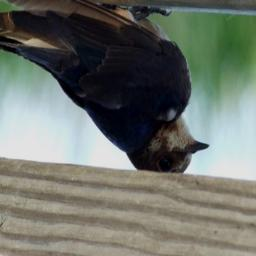Swallow: (0, 0, 210, 175)
